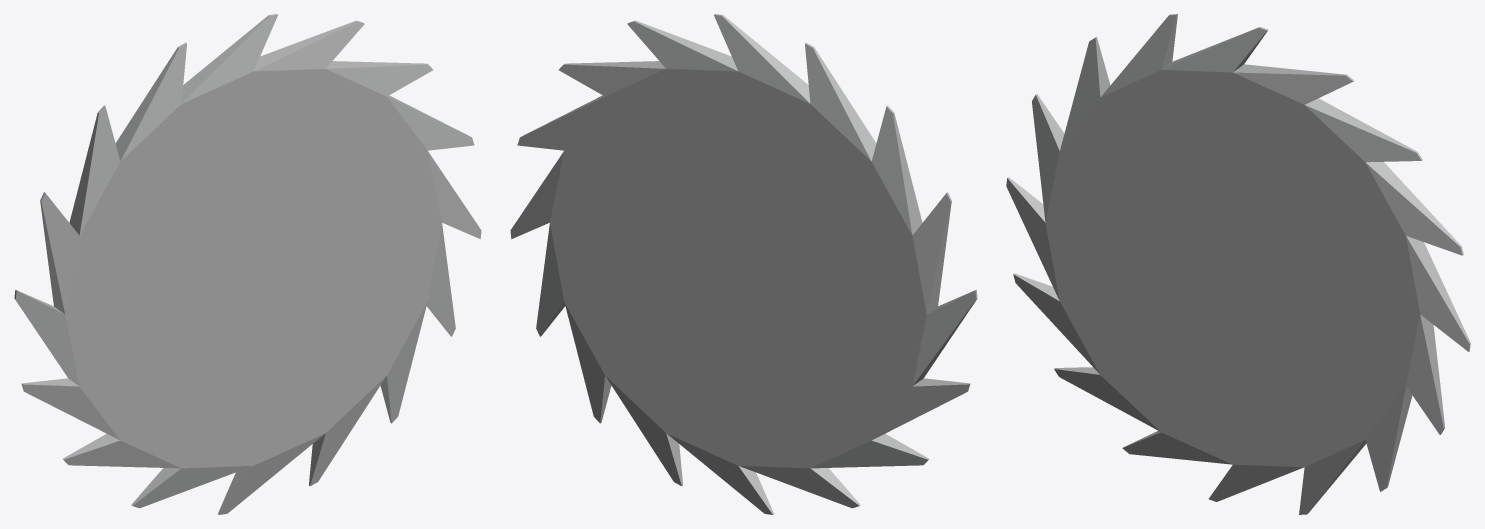
File: CircularSaw.gltf
The picture shows the model from 3 angles, left to right: view 1: azimuth 30°, elevation 25°; view 2: azimuth 150°, elevation 25°; view 3: azimuth 330°, elevation 25°; orthographic projection.
Visible parts, largest first — view 1: CircularSaw_glb; view 2: CircularSaw_glb; view 3: CircularSaw_glb.
Boxes of the visible parts, x1,y1,x2,y2 form: CircularSaw_glb: [14, 14, 481, 514]; CircularSaw_glb: [510, 14, 977, 514]; CircularSaw_glb: [1006, 14, 1470, 514].
Size of what is drawn, in the model's own units: 0.4742 by 0.4742 by 0.0199.
1 material, 1 textured.
